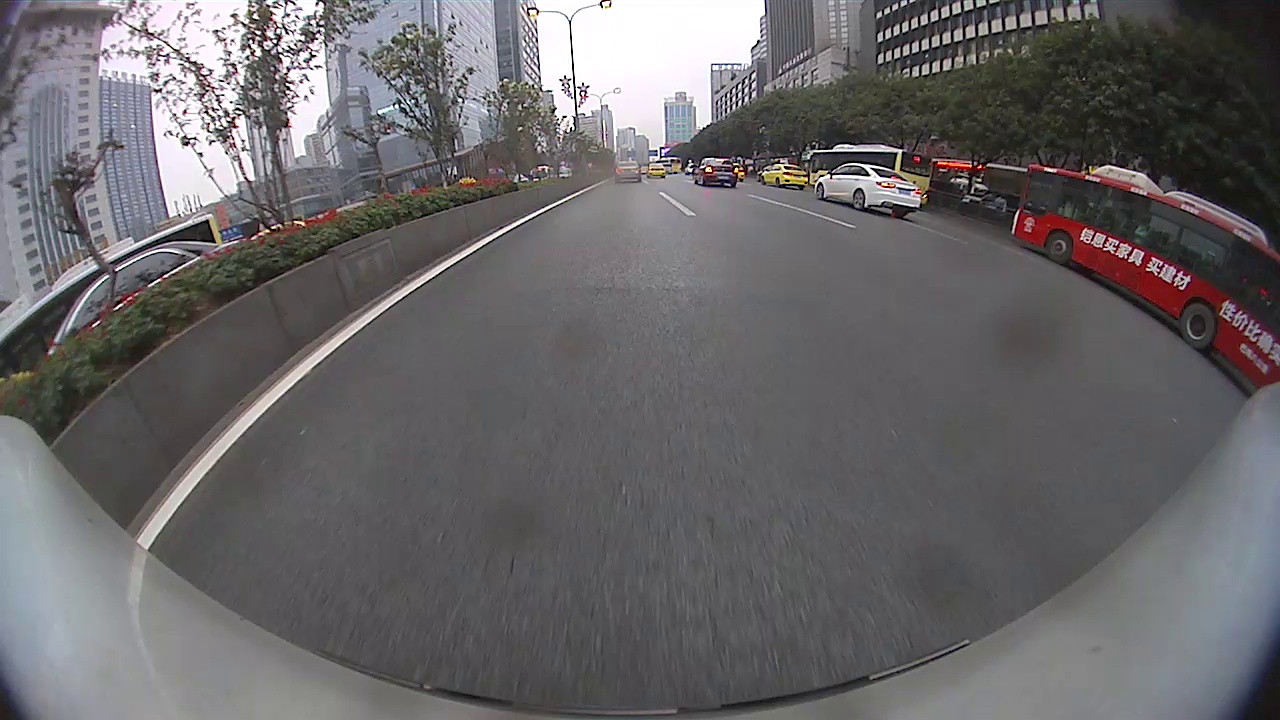bus: (1012, 162, 1278, 389), (1, 213, 220, 390), (809, 145, 931, 207)
car: (43, 241, 240, 356), (814, 161, 922, 218), (692, 158, 739, 187), (759, 162, 809, 189), (615, 160, 641, 184), (731, 163, 745, 180)
front: (1045, 232, 1074, 269), (815, 185, 828, 202)
rear: (1182, 302, 1220, 353), (851, 189, 868, 210)
